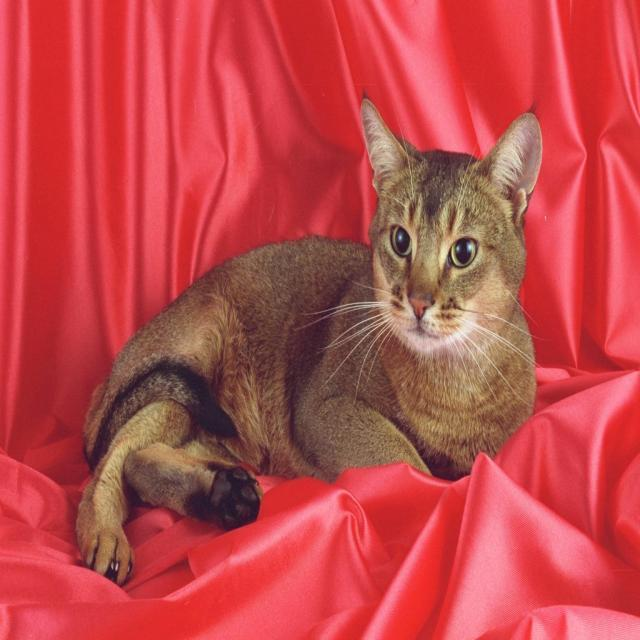Abyssinian: (358, 97, 542, 351)
